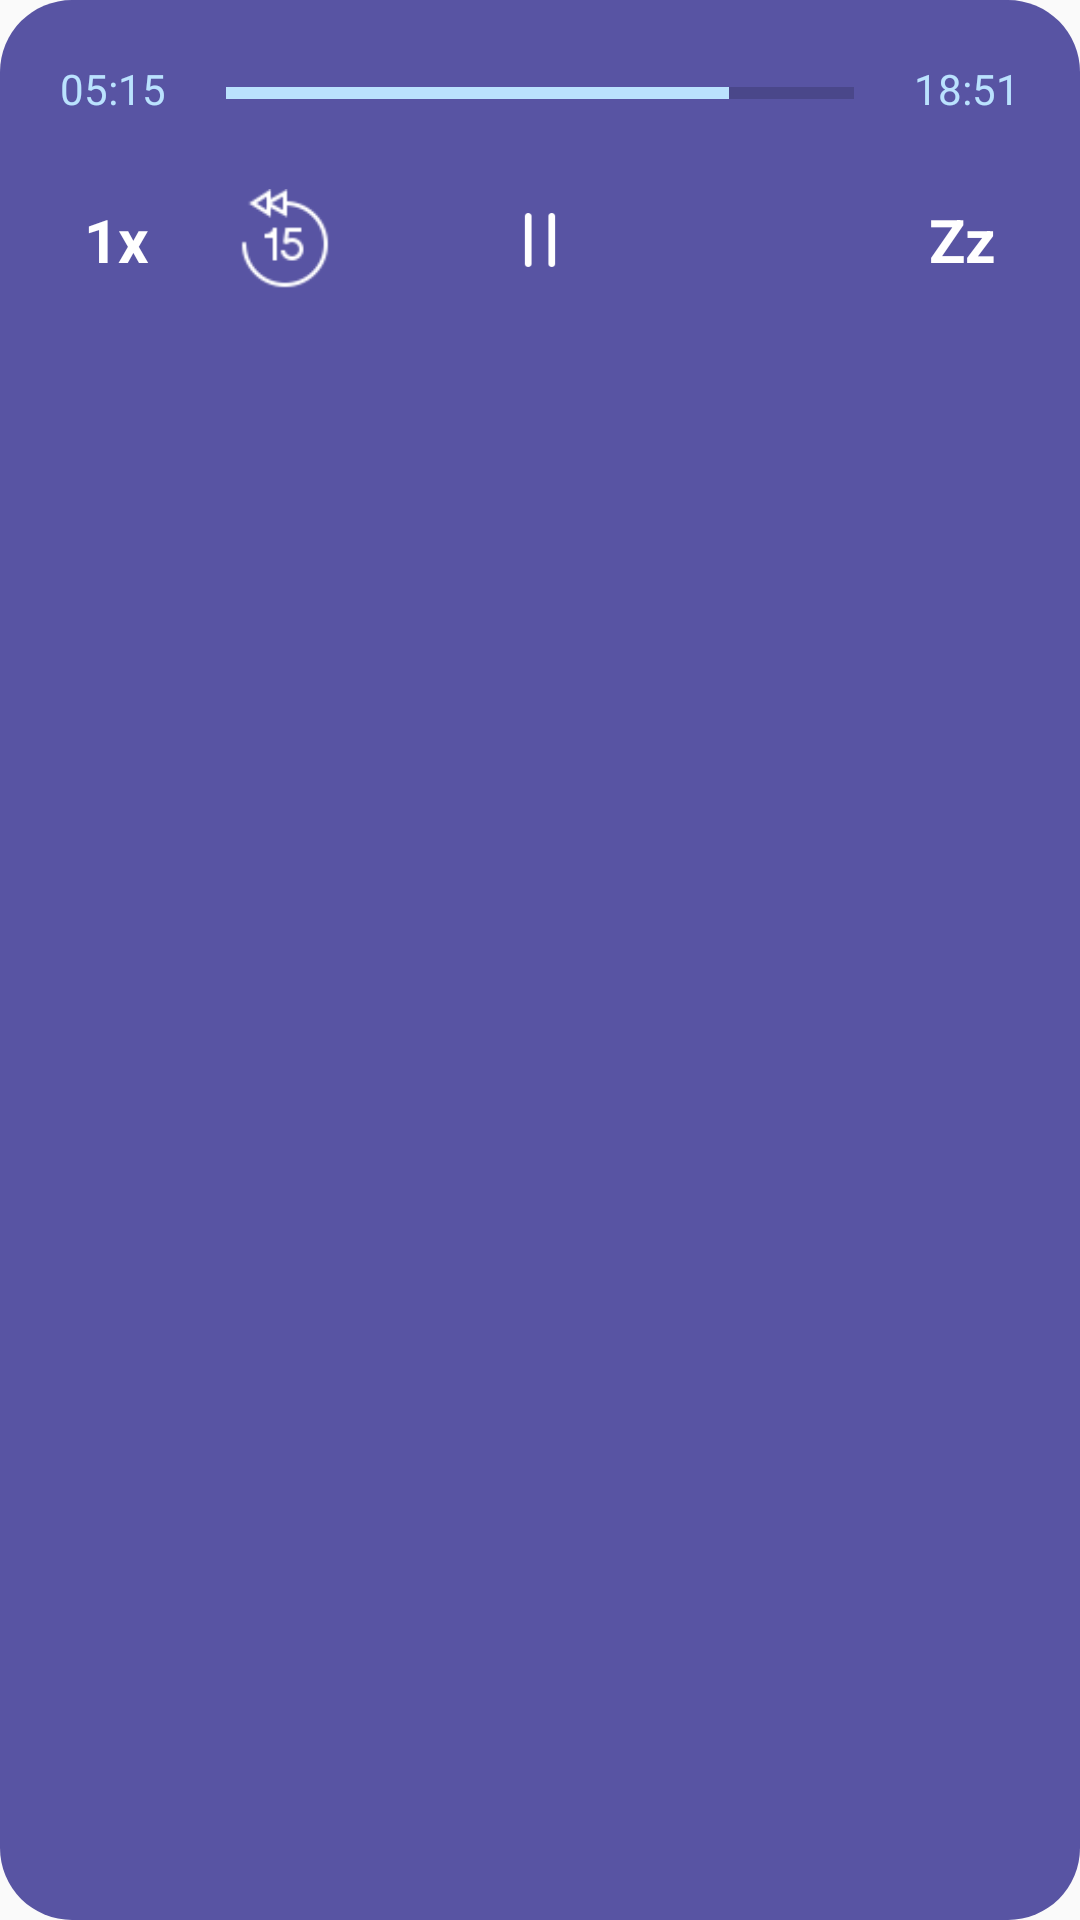

Locate icon controls on the screen. Image size 1080 × 1920, boxes as (x1, y1, x2, y2).
backward: (241, 189, 329, 288)
pause: (525, 213, 555, 267)
